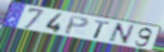4: (44, 12, 64, 34)
7: (24, 7, 47, 31)
9: (134, 27, 153, 48)
N: (106, 22, 137, 46)
P: (63, 15, 90, 36)
T: (92, 19, 111, 40)
